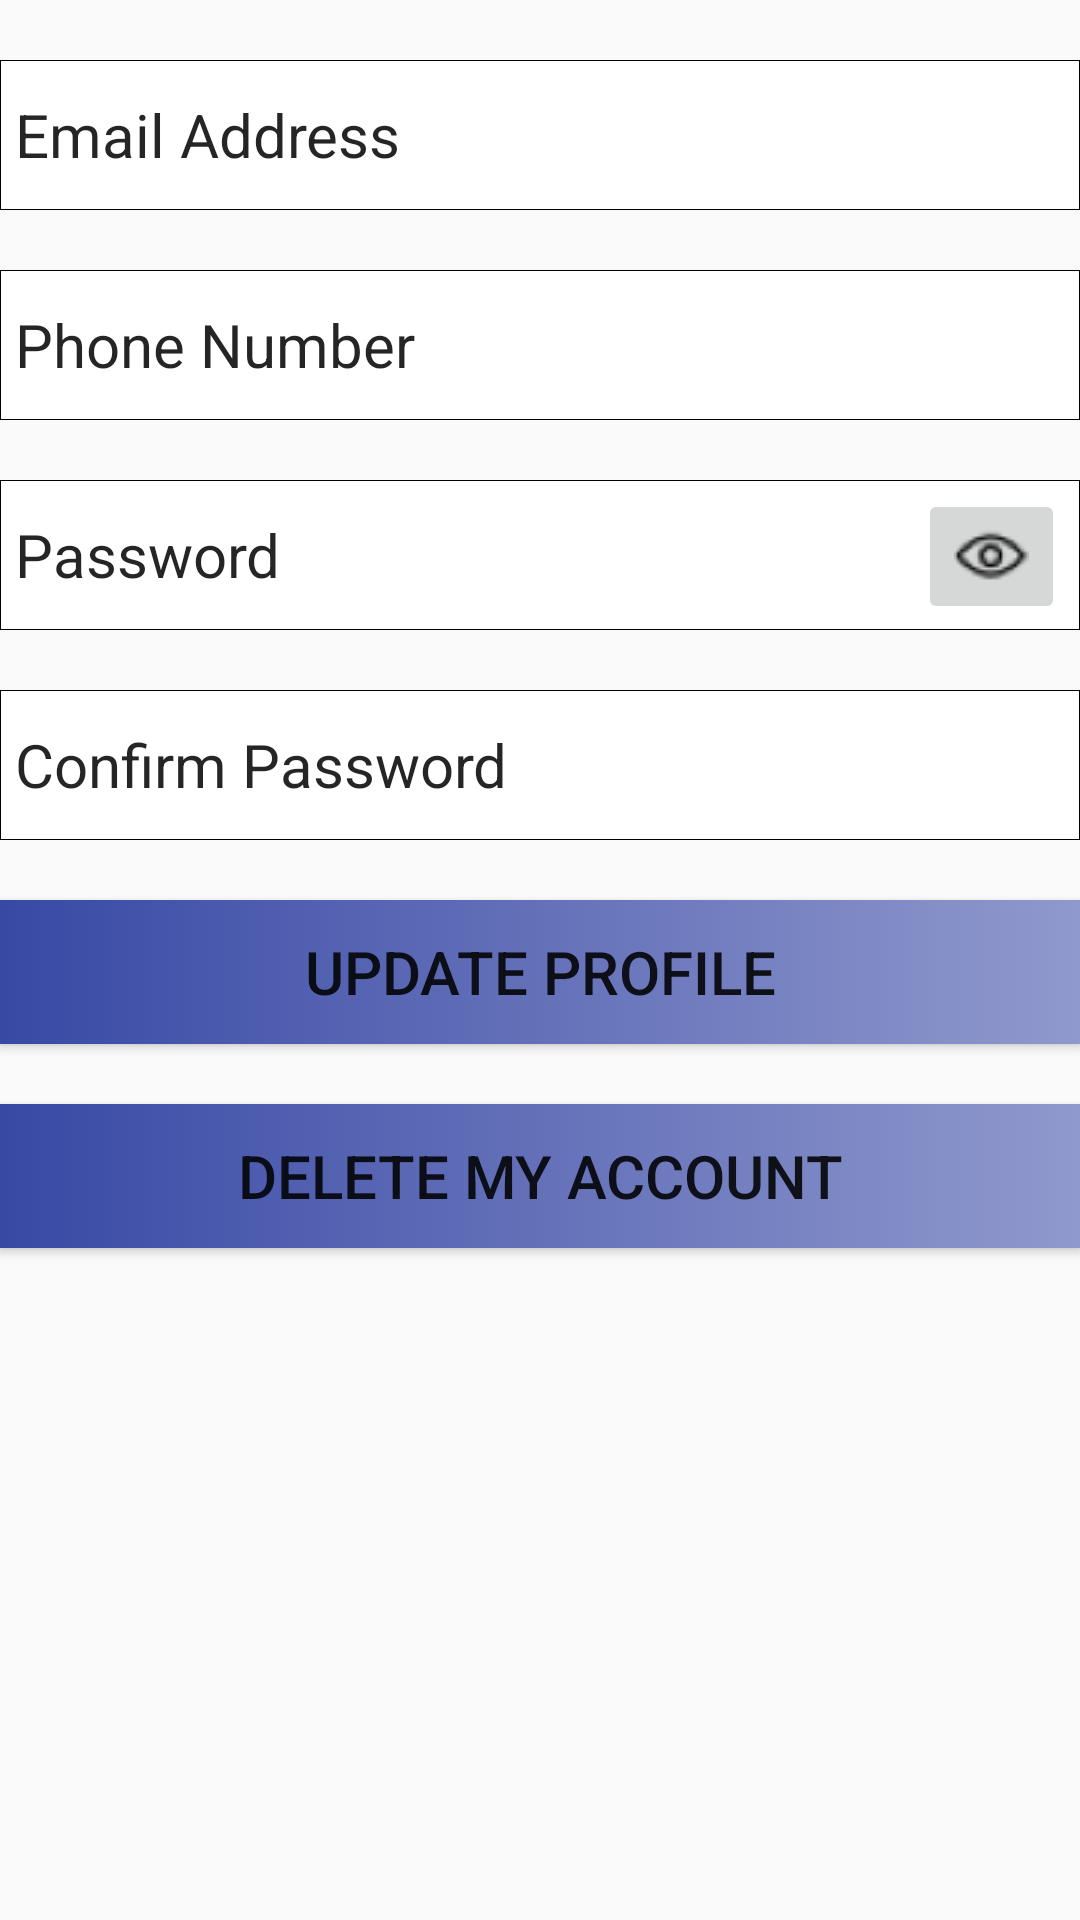

Where icons sit on this 1080px×1920px app screen, as (x1, y1, x2, y2):
view: (930, 507, 1053, 606)
